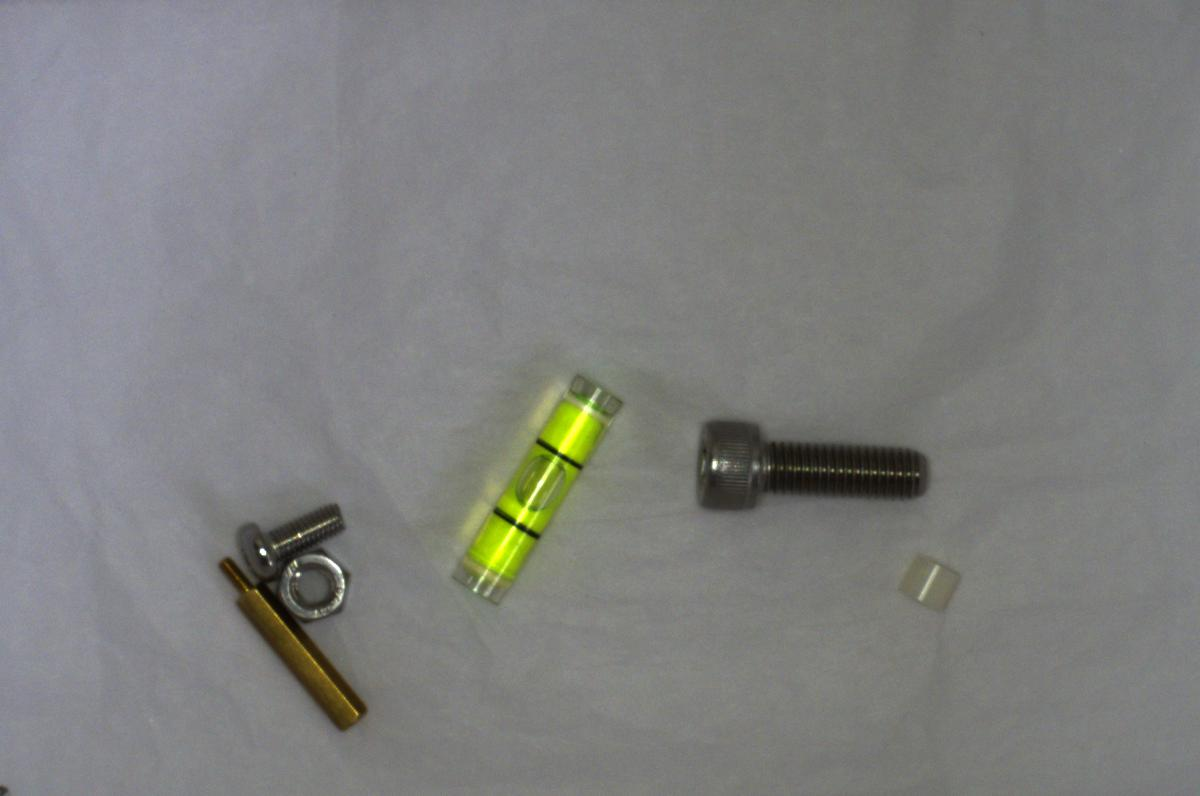Hexagon nut: (277, 546, 350, 626)
Hexagon pillar: (208, 552, 370, 738)
Hexagon screw: (685, 415, 940, 518)
Horizontal bubble: (445, 373, 626, 586)
Plastic cushion pillar: (888, 540, 967, 620)
Round head screw: (233, 496, 353, 580)
